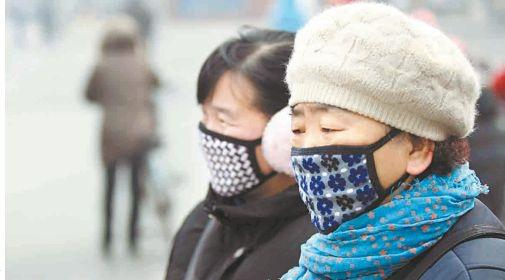OK: (290, 88, 373, 225), (198, 97, 262, 194)
